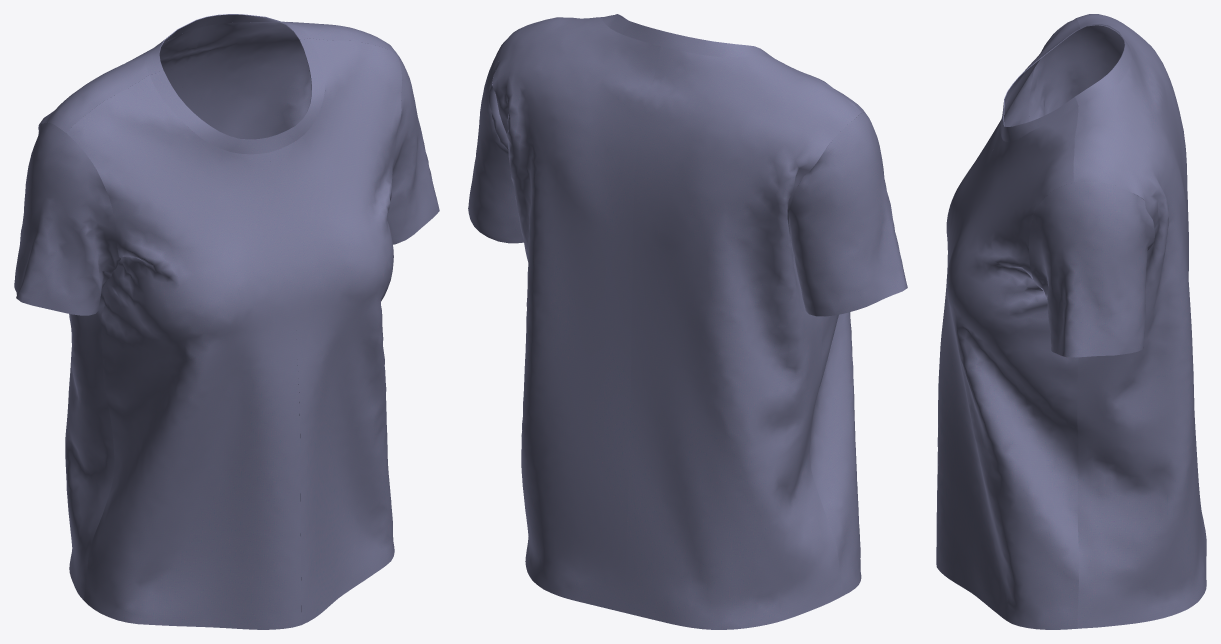
3 views of the same model, side by side, from view 1: azimuth 30°, elevation 25°; view 2: azimuth 150°, elevation 25°; view 3: azimuth 270°, elevation 25° (orthographic). The views are drawn at different scales.
Parts seen in each view (by area): view 1: Body_Front (×2), Body_Back (×2), Sleeves (×2), Ribbing (×2); view 2: Body_Back (×2), Sleeves (×2), Body_Front, Ribbing; view 3: Body_Front (×2), Body_Back (×2), Sleeves (×2), Ribbing (×2).
Boxes of the visible parts, <box> form: Body_Front (×2): <box>66,38,402,629</box>; Body_Back (×2): <box>39,21,397,600</box>; Sleeves (×2): <box>14,51,439,315</box>; Ribbing (×2): <box>145,14,324,154</box>; Body_Back (×2): <box>492,17,861,629</box>; Sleeves (×2): <box>468,40,907,316</box>; Body_Front: <box>774,58,865,595</box>; Ribbing: <box>602,14,770,57</box>; Body_Front (×2): <box>936,18,1079,629</box>; Body_Back (×2): <box>1073,14,1206,628</box>; Sleeves (×2): <box>1028,25,1154,357</box>; Ribbing (×2): <box>1000,24,1131,141</box>.
Size of the model in its own units: 45.77 by 56.48 by 26.45.
